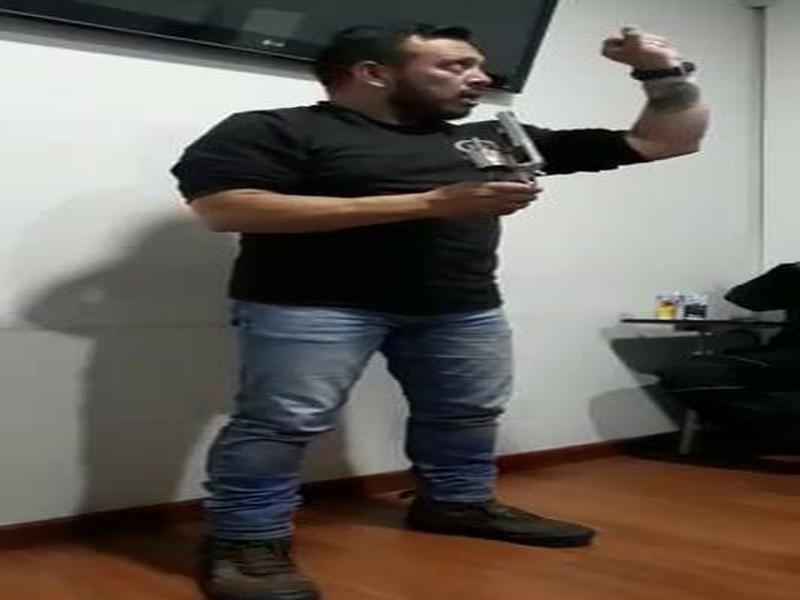Revolver: (455, 82, 559, 235)
